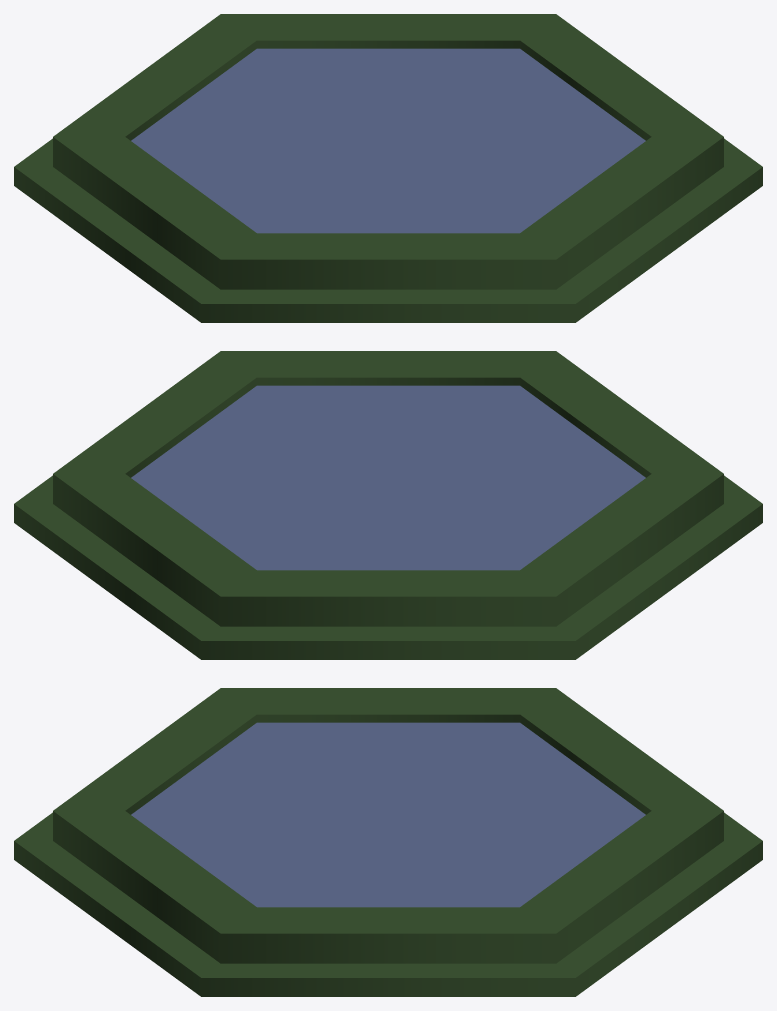
Rendered from teleportBase.FBX.
3 renders of one model, top to bottom at view 1: azimuth 30°, elevation 25°; view 2: azimuth 150°, elevation 25°; view 3: azimuth 270°, elevation 25°, orthographic.
Parts seen in each view (by area): view 1: Teleport; view 2: Teleport; view 3: Teleport.
Boxes of the visible parts, x1=… form: Teleport: x1=14, y1=14, x2=762, y2=322; Teleport: x1=14, y1=351, x2=762, y2=659; Teleport: x1=14, y1=688, x2=762, y2=996.
Size of the model in its own units: 19.56 by 1.63 by 22.59.
